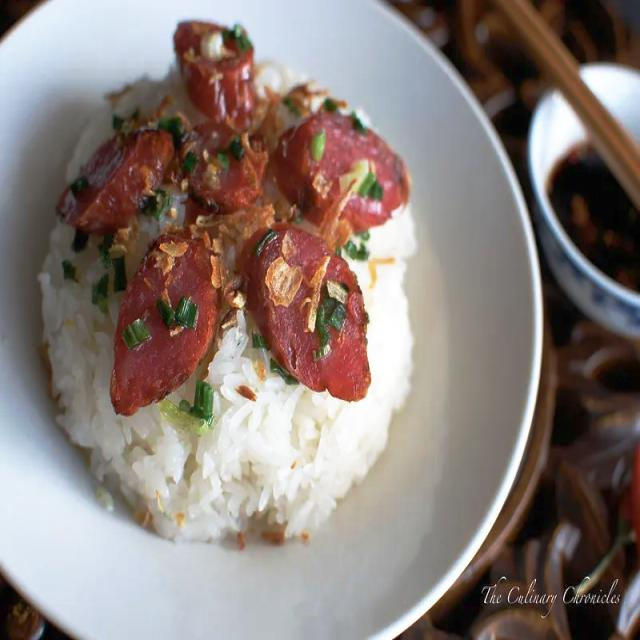chinese_sausage: (49, 19, 402, 412)
rice: (39, 224, 416, 543)
